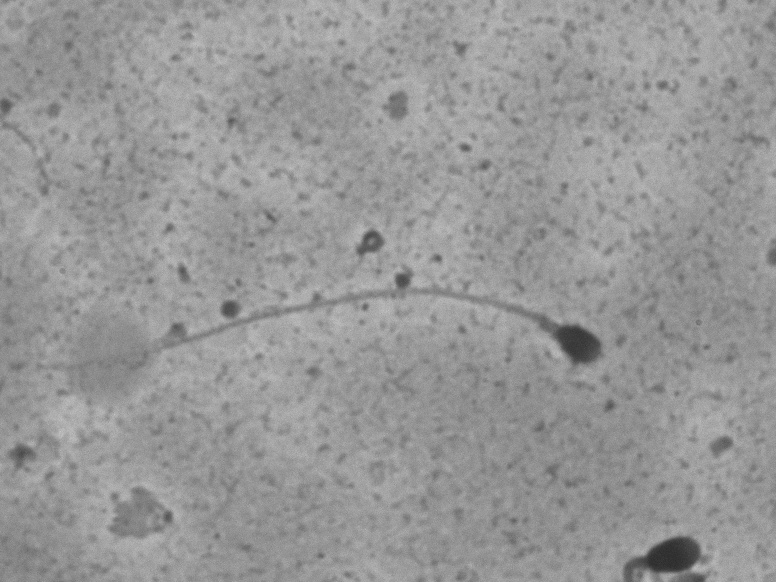Normal: (34, 279, 615, 414)
